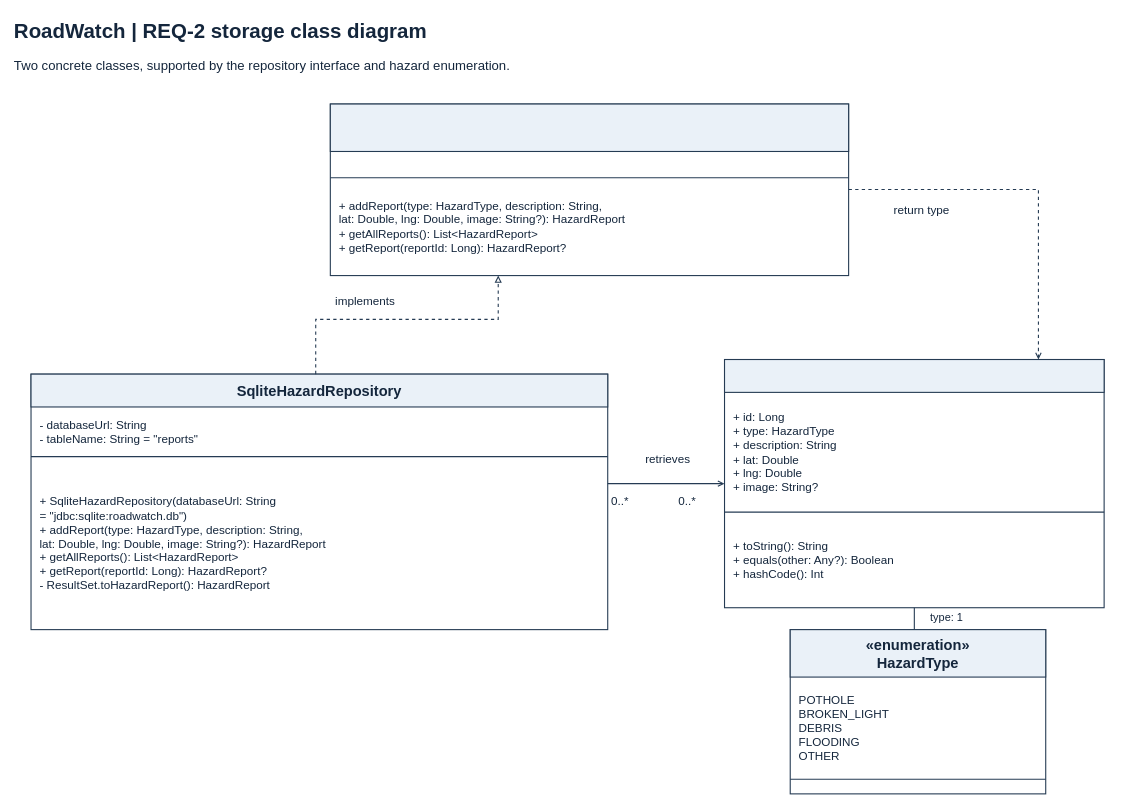
Image size: 1142x807. Some labels were removed from this diagram. Each missing label, with the box of its shape:
HazardReport: (724, 359, 1104, 393)
«interface» HazardRepository: (329, 103, 849, 152)
